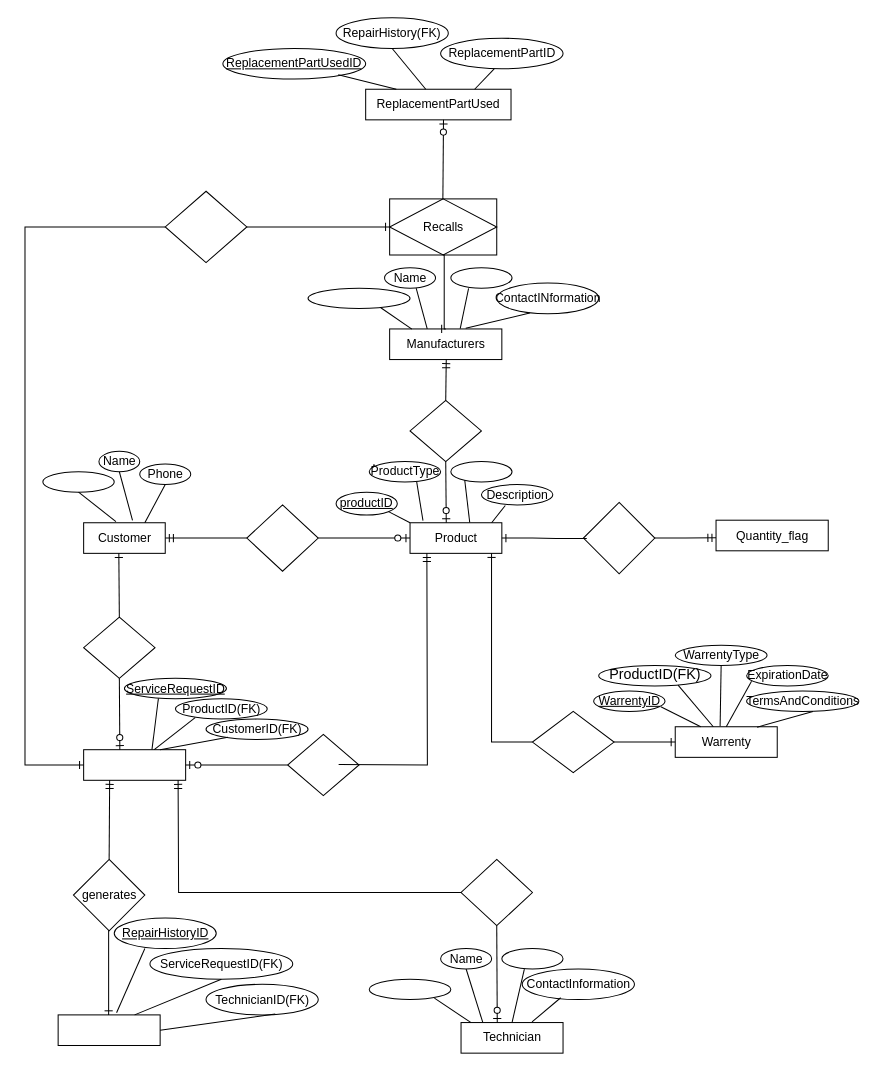
The diagram is 877 pixels wide and 1071 high, and some of its shapes have lost their labels. Here are the shapes that lost their labels. From the top down, the centre of each, then its label:
(205,226): Triggers
(481,277): Address
(358,298): ManufacturerID
(445,430): Produces
(78,481): CustomerID
(481,471): SerialNo
(282,537): purchases
(618,537): is maufactured by
(119,647): inititiates
(572,741): has
(134,764): service_request
(323,764): Requires
(496,892): Assigned by
(532,958): Expertise
(409,989): TechnicianID
(108,1030): Repair_history
